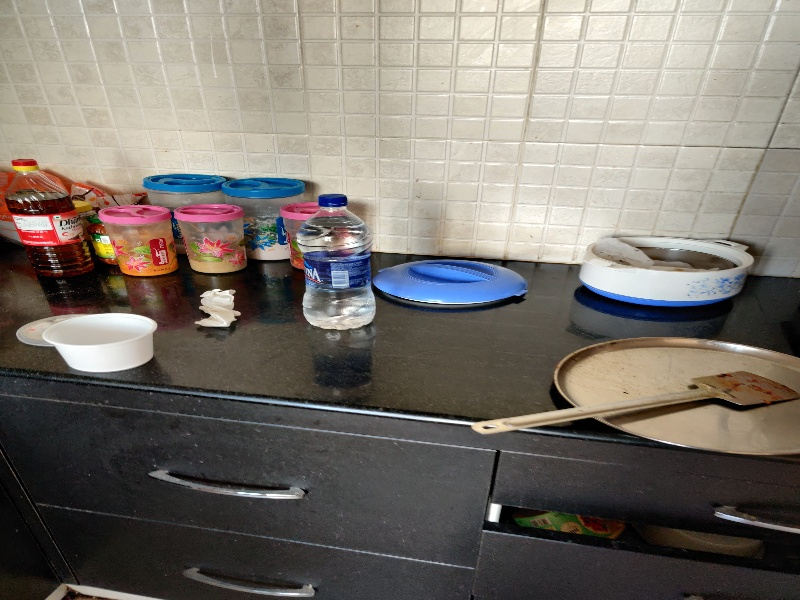bottle: (291, 190, 386, 333)
